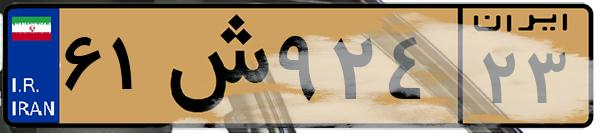1: (110, 28, 158, 98)
2: (330, 28, 385, 110), (475, 38, 525, 113)
3: (525, 38, 570, 115)
4: (385, 28, 445, 110)
6: (57, 26, 110, 100)
9: (270, 28, 330, 110)
ش: (158, 12, 270, 120)
